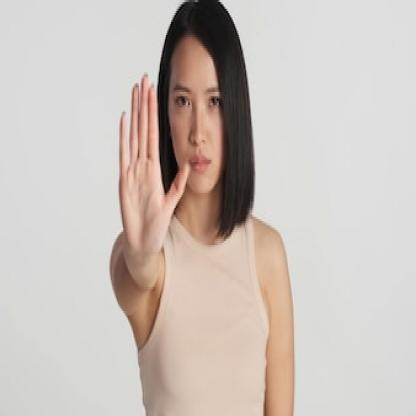stop: (118, 70, 194, 258)
